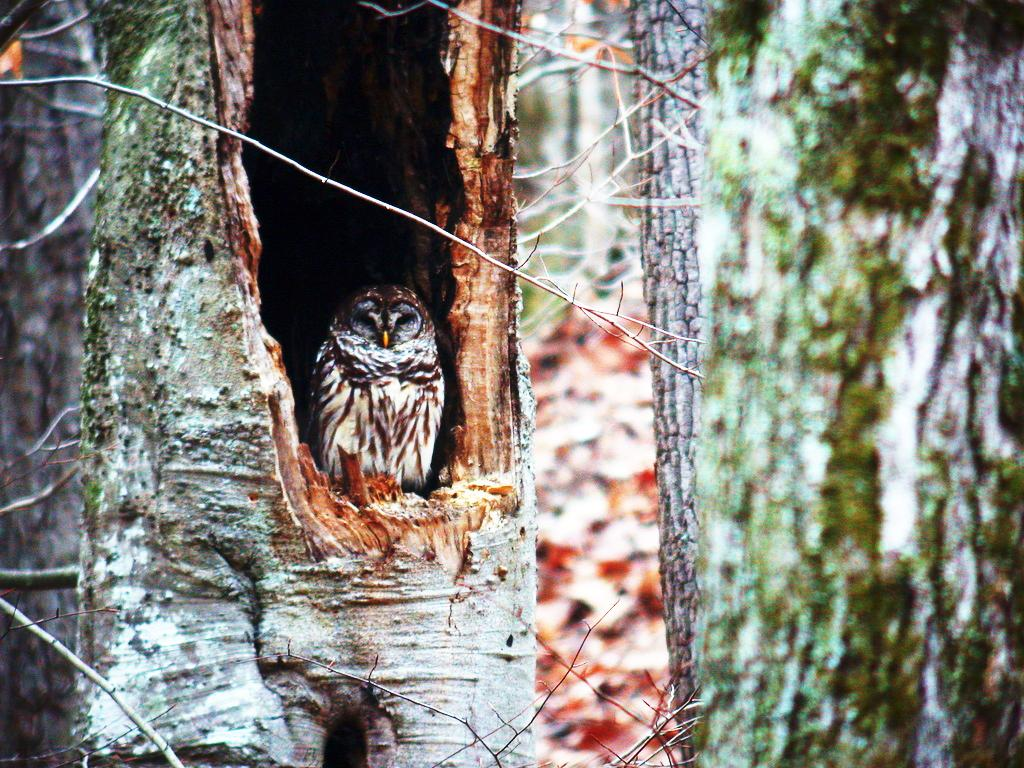Owl: (306, 278, 452, 514)
